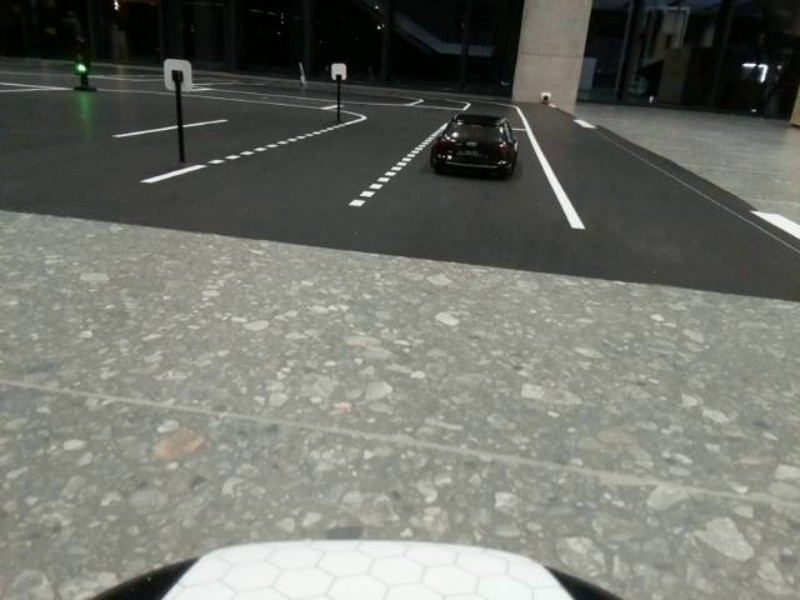car: (426, 98, 541, 189)
